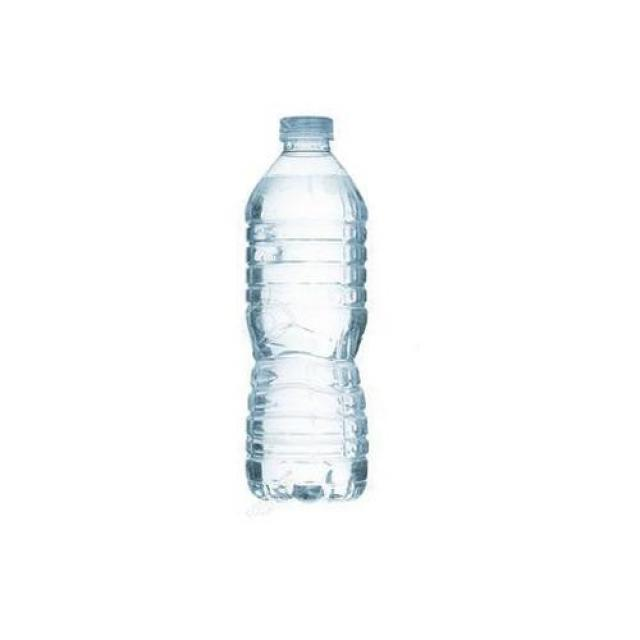bottle: (240, 112, 375, 514)
